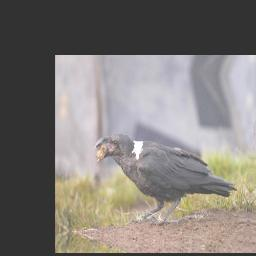Crow: (88, 127, 242, 238)
